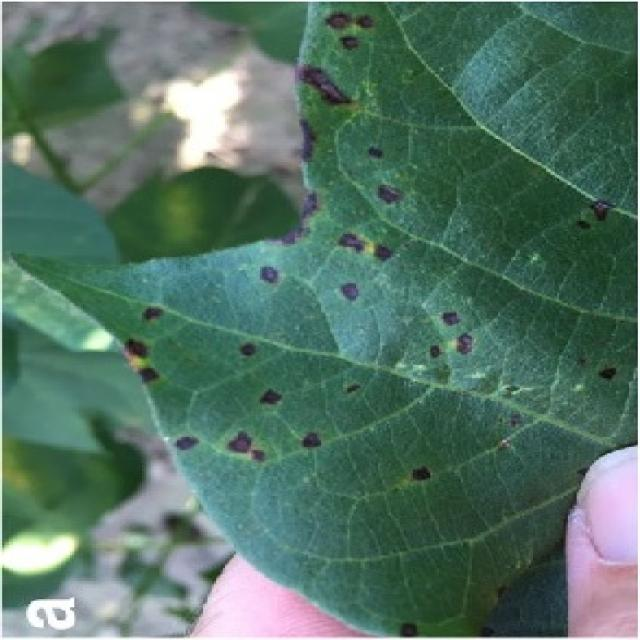Bacterial Blight: (264, 48, 468, 427)
